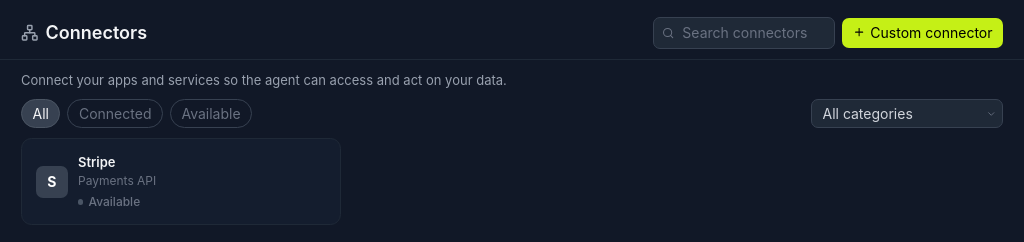
Test: ConnectorsPage › shows empty state message when search finds nothing
The width and height of the screenshot is (1024, 242).
expect the text "Stripe" is shown: met, box [78,154,116,170]
Type "xyznotfound" into the field with placeholder "Search connectors".
click(744, 33); type("xyznotfound")  # box [653,16,835,49]
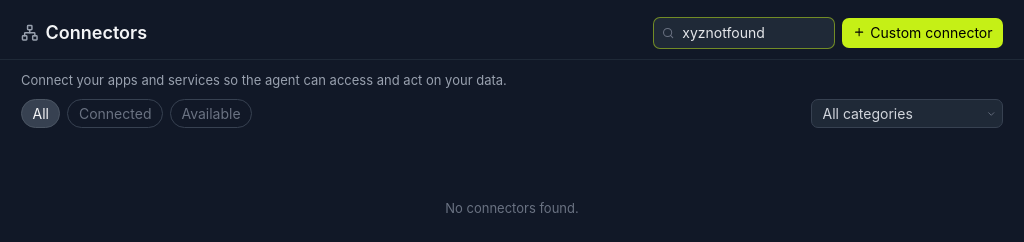
expect the text "No connectors found." is shown: met, box [445,200,579,216]
